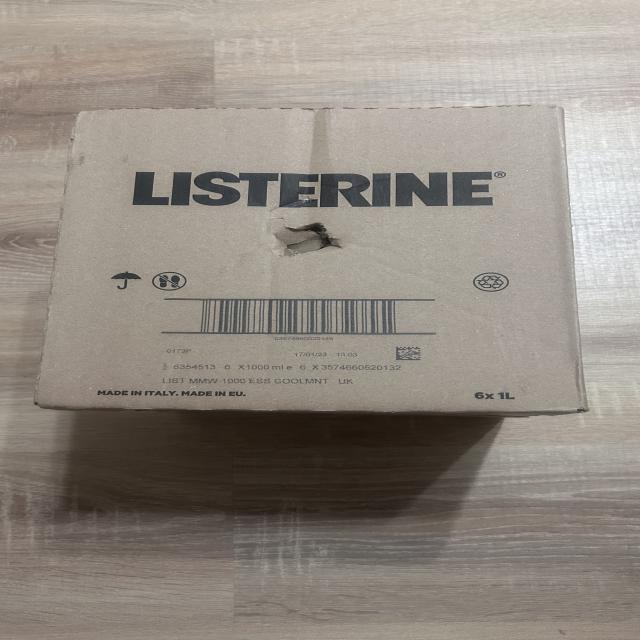damaged: (65, 105, 589, 421), (262, 212, 348, 262)
